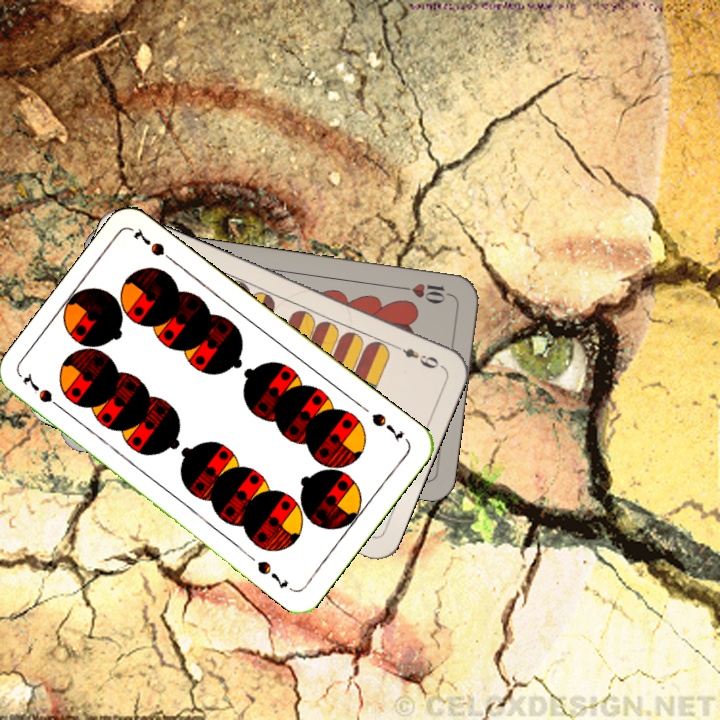E9: (389, 340, 442, 371)
H10: (396, 279, 455, 306)
S7: (19, 369, 68, 415), (367, 409, 406, 445)
